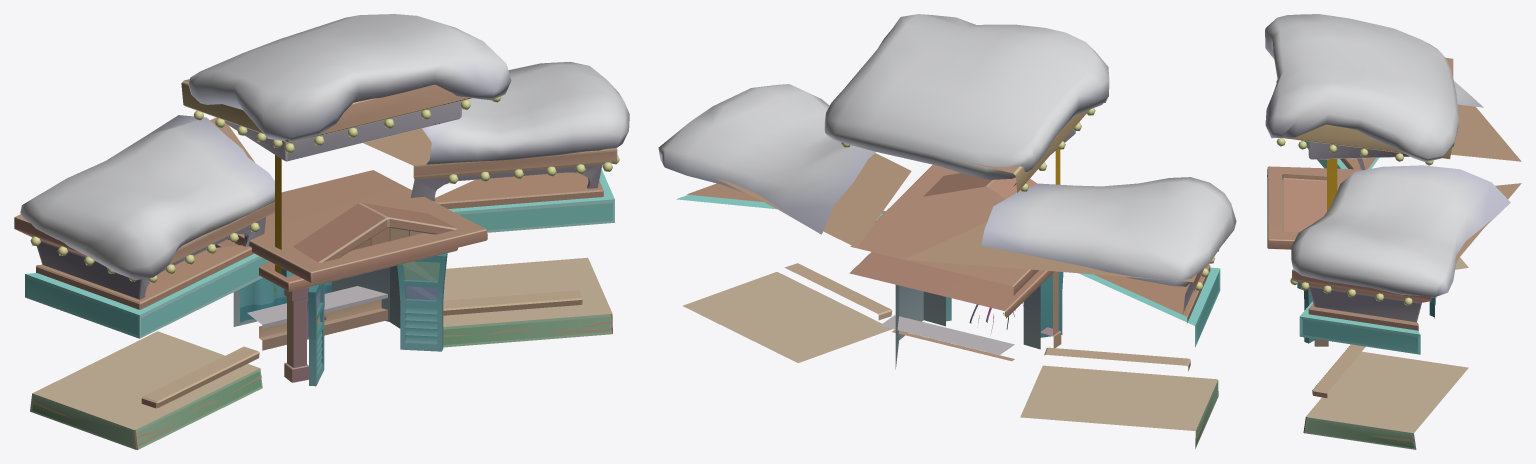
Rendered from DisneyStore.glb.
The picture shows the model from 3 angles, left to right: view 1: azimuth 30°, elevation 25°; view 2: azimuth 150°, elevation 25°; view 3: azimuth 270°, elevation 25°; orthographic projection. The views are drawn at different scales.
Parts seen in each view (by area): view 1: DisneyStore; view 2: DisneyStore; view 3: DisneyStore.
Part boxes in pixels (box(x1,y1,x2,y2)): DisneyStore: box(14, 14, 629, 449); DisneyStore: box(658, 14, 1236, 448); DisneyStore: box(1265, 14, 1521, 449).
Bounding box in the file's own units: 11.04 × 6.24 × 5.
